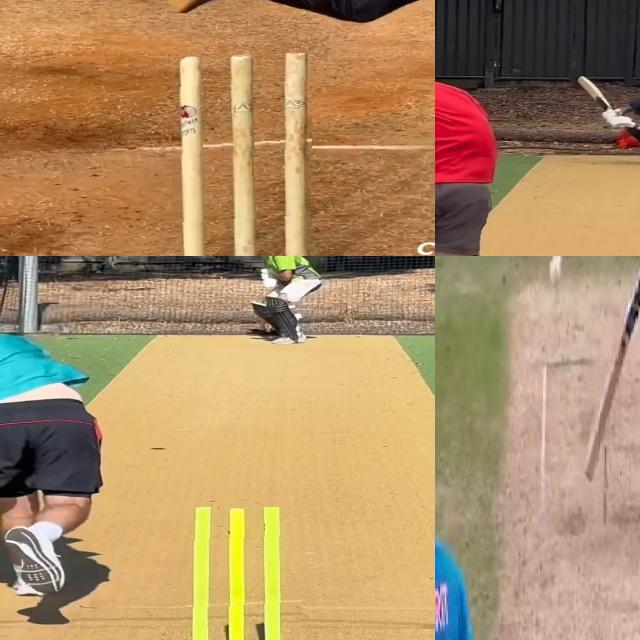Cricket ball: (548, 256, 564, 288)
Stumps: (175, 53, 312, 256), (175, 506, 304, 640)
